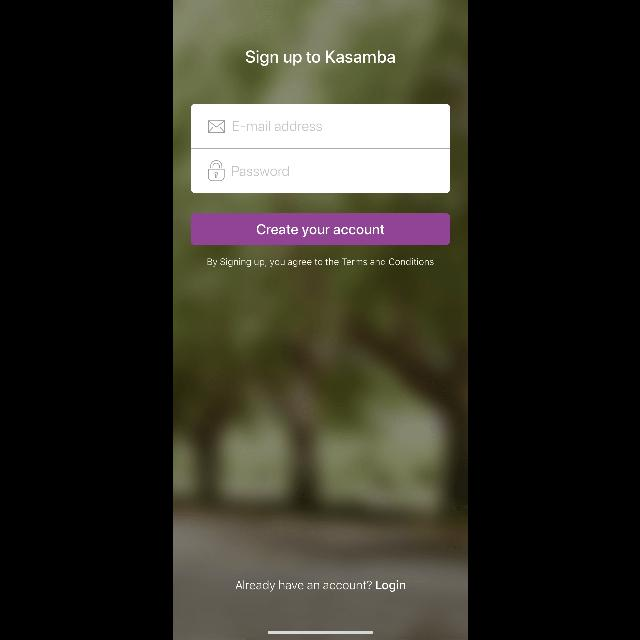backgroundimage: (172, 1, 468, 640)
icon: (208, 161, 225, 181), (208, 121, 225, 133)
input: (190, 149, 450, 193), (190, 104, 450, 148)
text: (246, 50, 394, 66), (235, 580, 405, 592), (207, 258, 433, 266), (232, 121, 322, 131), (232, 166, 288, 176)
textbutton: (190, 213, 450, 245)
